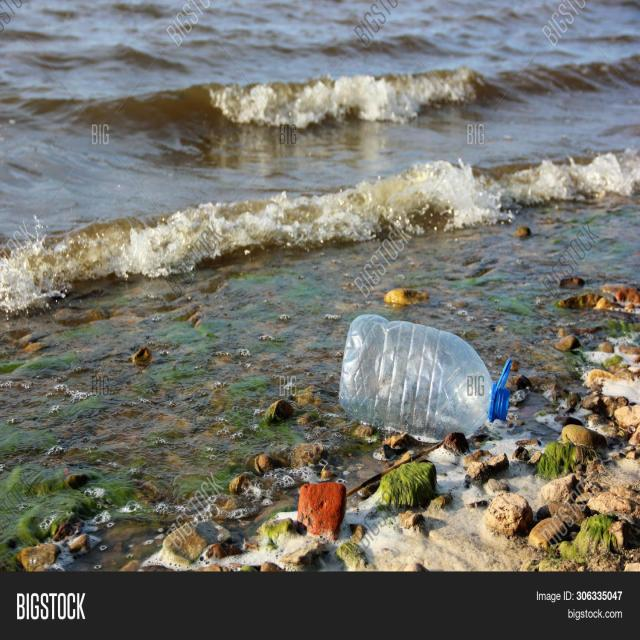bottle: (325, 296, 525, 468)
